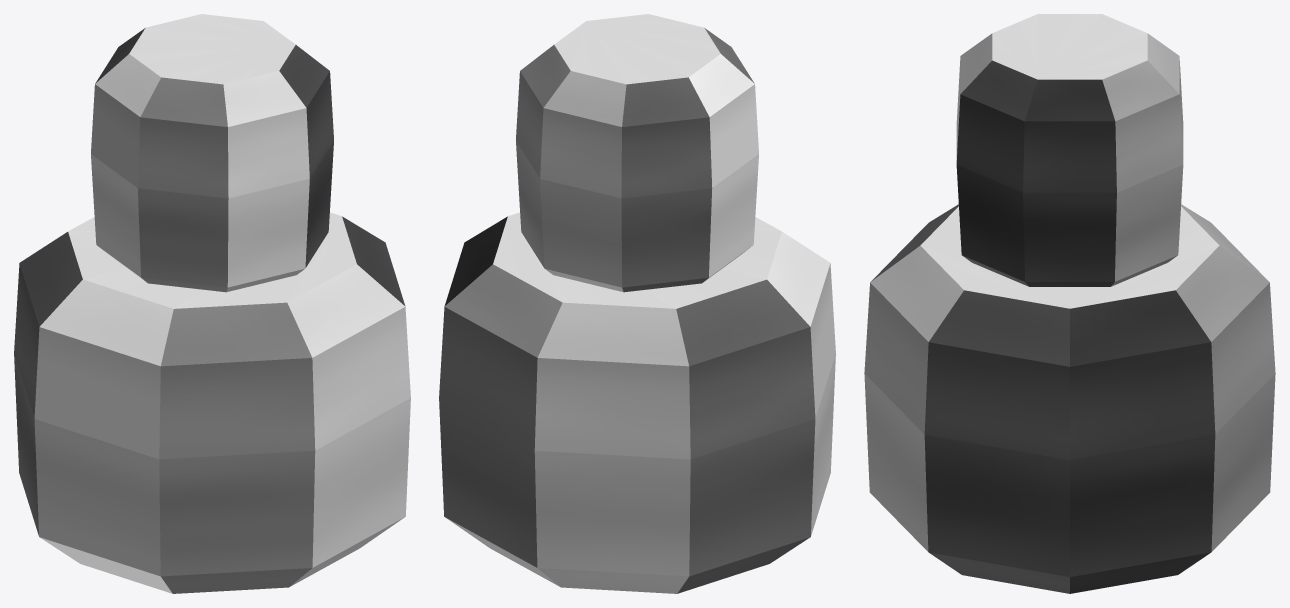
File: earth-structural.glb
The picture shows the model from 3 angles, left to right: view 1: azimuth 30°, elevation 25°; view 2: azimuth 150°, elevation 25°; view 3: azimuth 270°, elevation 25°; orthographic projection.
Parts seen in each view (by area): view 1: earth-structural; view 2: earth-structural; view 3: earth-structural.
Boxes of the visible parts, x1,y1,x2,y2 form: earth-structural: (14, 14, 410, 593); earth-structural: (439, 14, 835, 593); earth-structural: (864, 14, 1275, 593).
Bounding box in the file's own units: 0.1969 × 0.255 × 0.1969.
1 material, 1 textured.
